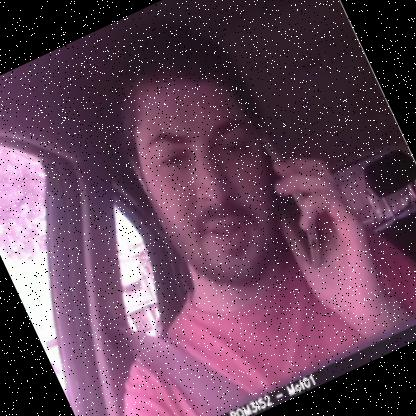phone: (234, 117, 348, 279)
